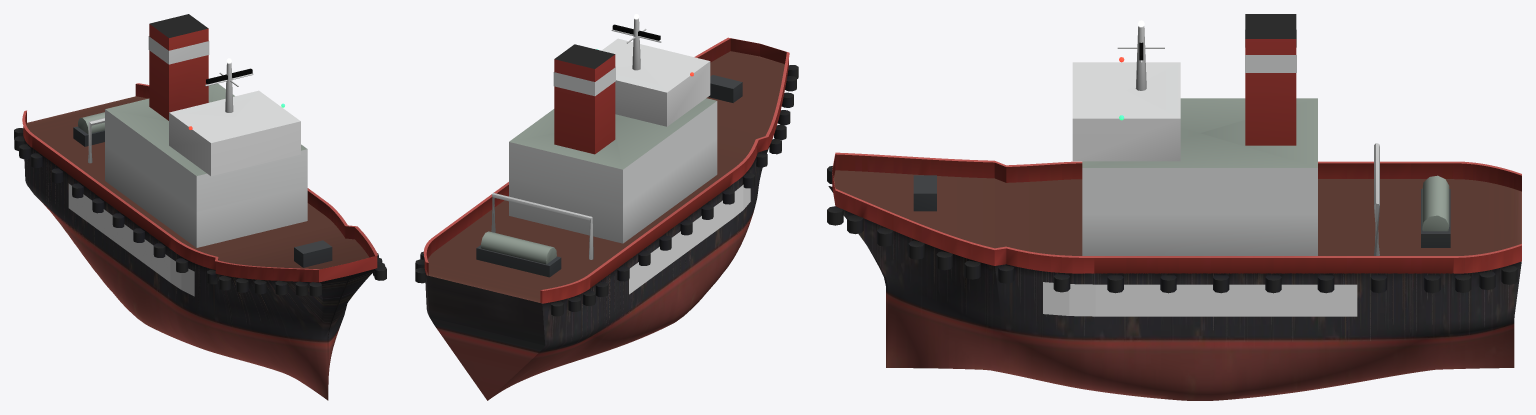
File: schlepper.glb
3 renders of one model, left to right at view 1: azimuth 30°, elevation 25°; view 2: azimuth 150°, elevation 25°; view 3: azimuth 270°, elevation 25°, orthographic. The views are drawn at different scales.
Parts seen in each view (by area): view 1: trim, rumpf, rund, name-1; view 2: trim, rumpf, rund, name-1; view 3: trim, rumpf, name1, rund.
Boxes of the visible parts, box(x1,y1,x2,y2) form: trim: box(22, 14, 377, 282); rumpf: box(23, 136, 376, 400); rund: box(14, 62, 386, 296); name-1: box(68, 183, 194, 296); trim: box(423, 37, 789, 303); rumpf: box(424, 146, 769, 400); rund: box(415, 18, 798, 316); name-1: box(629, 184, 750, 294); trim: box(832, 14, 1521, 273); rumpf: box(828, 186, 1521, 400); name1: box(1043, 282, 1357, 316); rund: box(827, 26, 1517, 293).
Bounding box in the file's own units: 12.84 × 19.53 × 35.39.
Materials: 7 (1 with a texture image).
